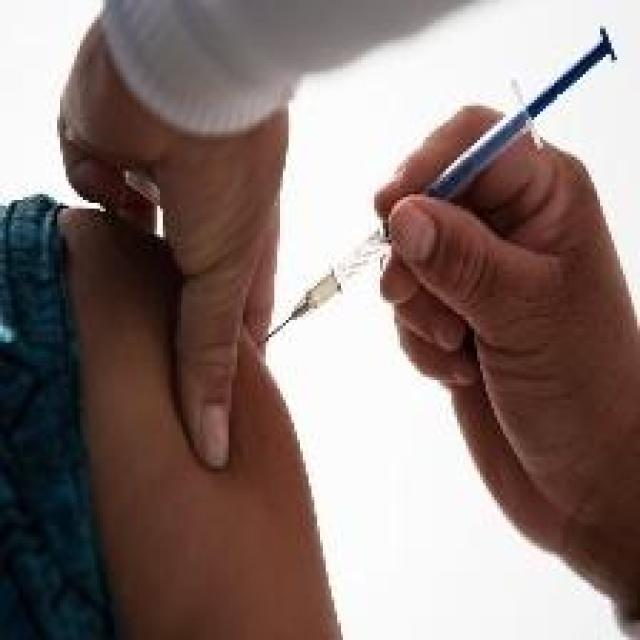syringe: (260, 25, 620, 431)
